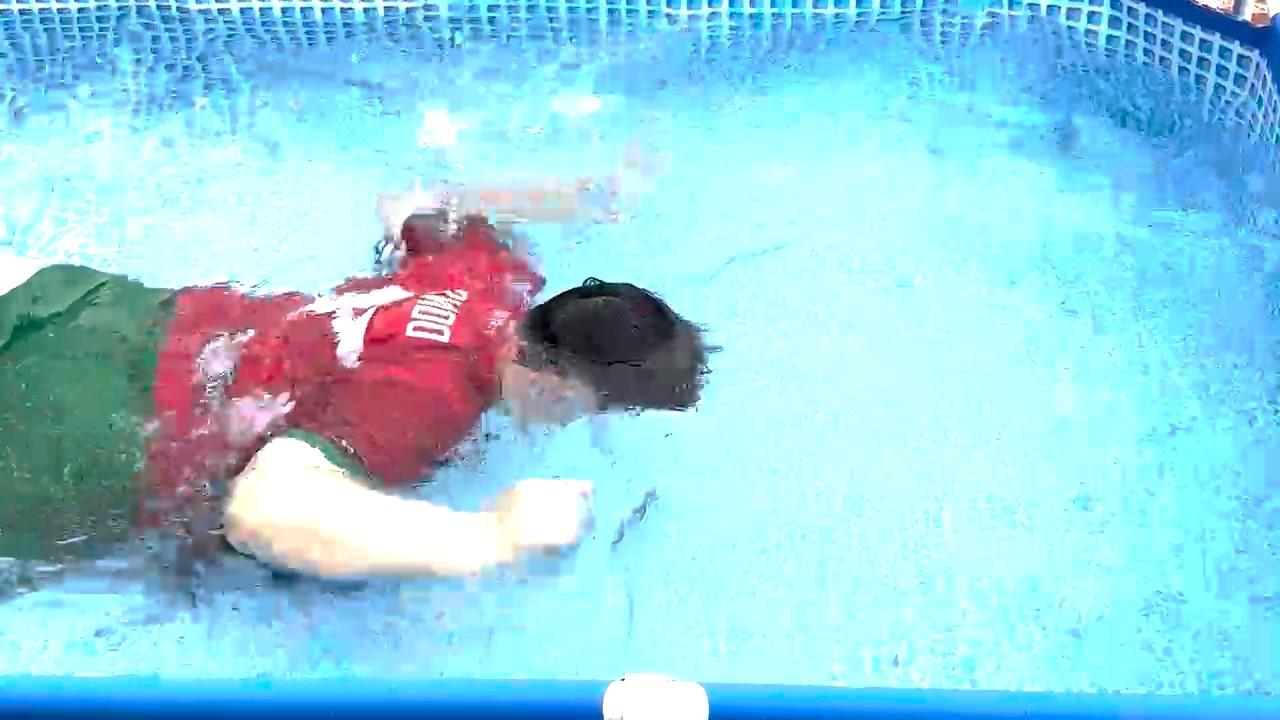Drowning: (0, 114, 815, 647)
